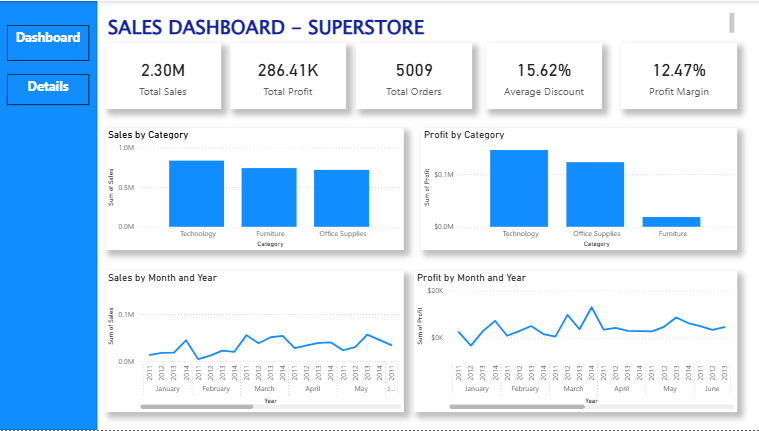

Layout of this report page (visuals, bound fields, positions):
{"tool":"powerbi","page":{"name":"Page 1","canvas":[1280,720],"ordinal":0},"visuals":[{"type":"textbox","box":[178.1,15.1,1061.6,50.4],"z":0},{"type":"card","fields":{"Values":["Superstore.Total Profit"]},"box":[388,70.6,194.9,110.9],"z":1000},{"type":"shape","box":[0,0,165.1,720.8],"z":2000,"group":"g1"},{"type":"card","fields":{"Values":["Superstore.Total Sales"]},"box":[178.1,70.6,194.9,110.9],"z":2000},{"type":"textbox","box":[13.4,40.3,137.7,60.5],"z":3000,"group":"g1"},{"type":"card","fields":{"Values":["Superstore.Total Orders"]},"box":[599.7,70.6,194.9,110.9],"z":3000},{"type":"card","fields":{"Values":["Superstore.Average Discount"]},"box":[818.1,70.6,194.9,110.9],"z":4000},{"type":"textbox","box":[13.4,122.6,137.7,52.1],"z":4000,"group":"g1"},{"type":"card","fields":{"Values":["Superstore.Profit Margin"]},"box":[1044.8,70.6,194.9,110.9],"z":5000},{"type":"clusteredColumnChart","title":"Sales by Category","fields":{"Category":["Superstore.Category"],"Y":["Sum(Superstore.Sales)"]},"box":[178.1,213.3,502.3,204.9],"z":6000},{"type":"clusteredColumnChart","title":"Profit by Category","fields":{"Category":["Superstore.Category"],"Y":["Sum(Superstore.Profit)"]},"box":[708.9,213.3,530.8,204.9],"z":7000},{"type":"lineChart","title":"Sales by Month  and Year","fields":{"Category":["Superstore.Month Name","Superstore.Year"],"Y":["Sum(Superstore.Sales)"]},"box":[178.1,453.5,502.3,236.9],"z":8000},{"type":"lineChart","title":"Profit by Month and Year","fields":{"Y":["Sum(Superstore.Profit)"],"Category":["Superstore.Month Name","Superstore.Year"]},"box":[697.1,453.5,542.6,236.9],"z":9000},{"type":"group","id":"g1","title":"Group 1","box":[0,0,165.1,720.8],"z":10000}]}

Visuals, with their boxes in screenshot pixels (x1, y1, x2, y2), scaled from the page's 1280x720 canvas onto the 759x431 screenshot:
textbox: box=[106, 9, 735, 39]
card - Superstore.Total Profit: box=[230, 42, 346, 109]
shape: box=[0, 0, 98, 430]
card - Superstore.Total Sales: box=[106, 42, 221, 109]
textbox: box=[8, 24, 90, 60]
card - Superstore.Total Orders: box=[356, 42, 471, 109]
card - Superstore.Average Discount: box=[485, 42, 601, 109]
textbox: box=[8, 73, 90, 105]
card - Superstore.Profit Margin: box=[620, 42, 735, 109]
"Sales by Category" clusteredColumnChart: box=[106, 128, 403, 250]
"Profit by Category" clusteredColumnChart: box=[420, 128, 735, 250]
"Sales by Month  and Year" lineChart: box=[106, 271, 403, 413]
"Profit by Month and Year" lineChart: box=[413, 271, 735, 413]
"Group 1" group: box=[0, 0, 98, 430]
